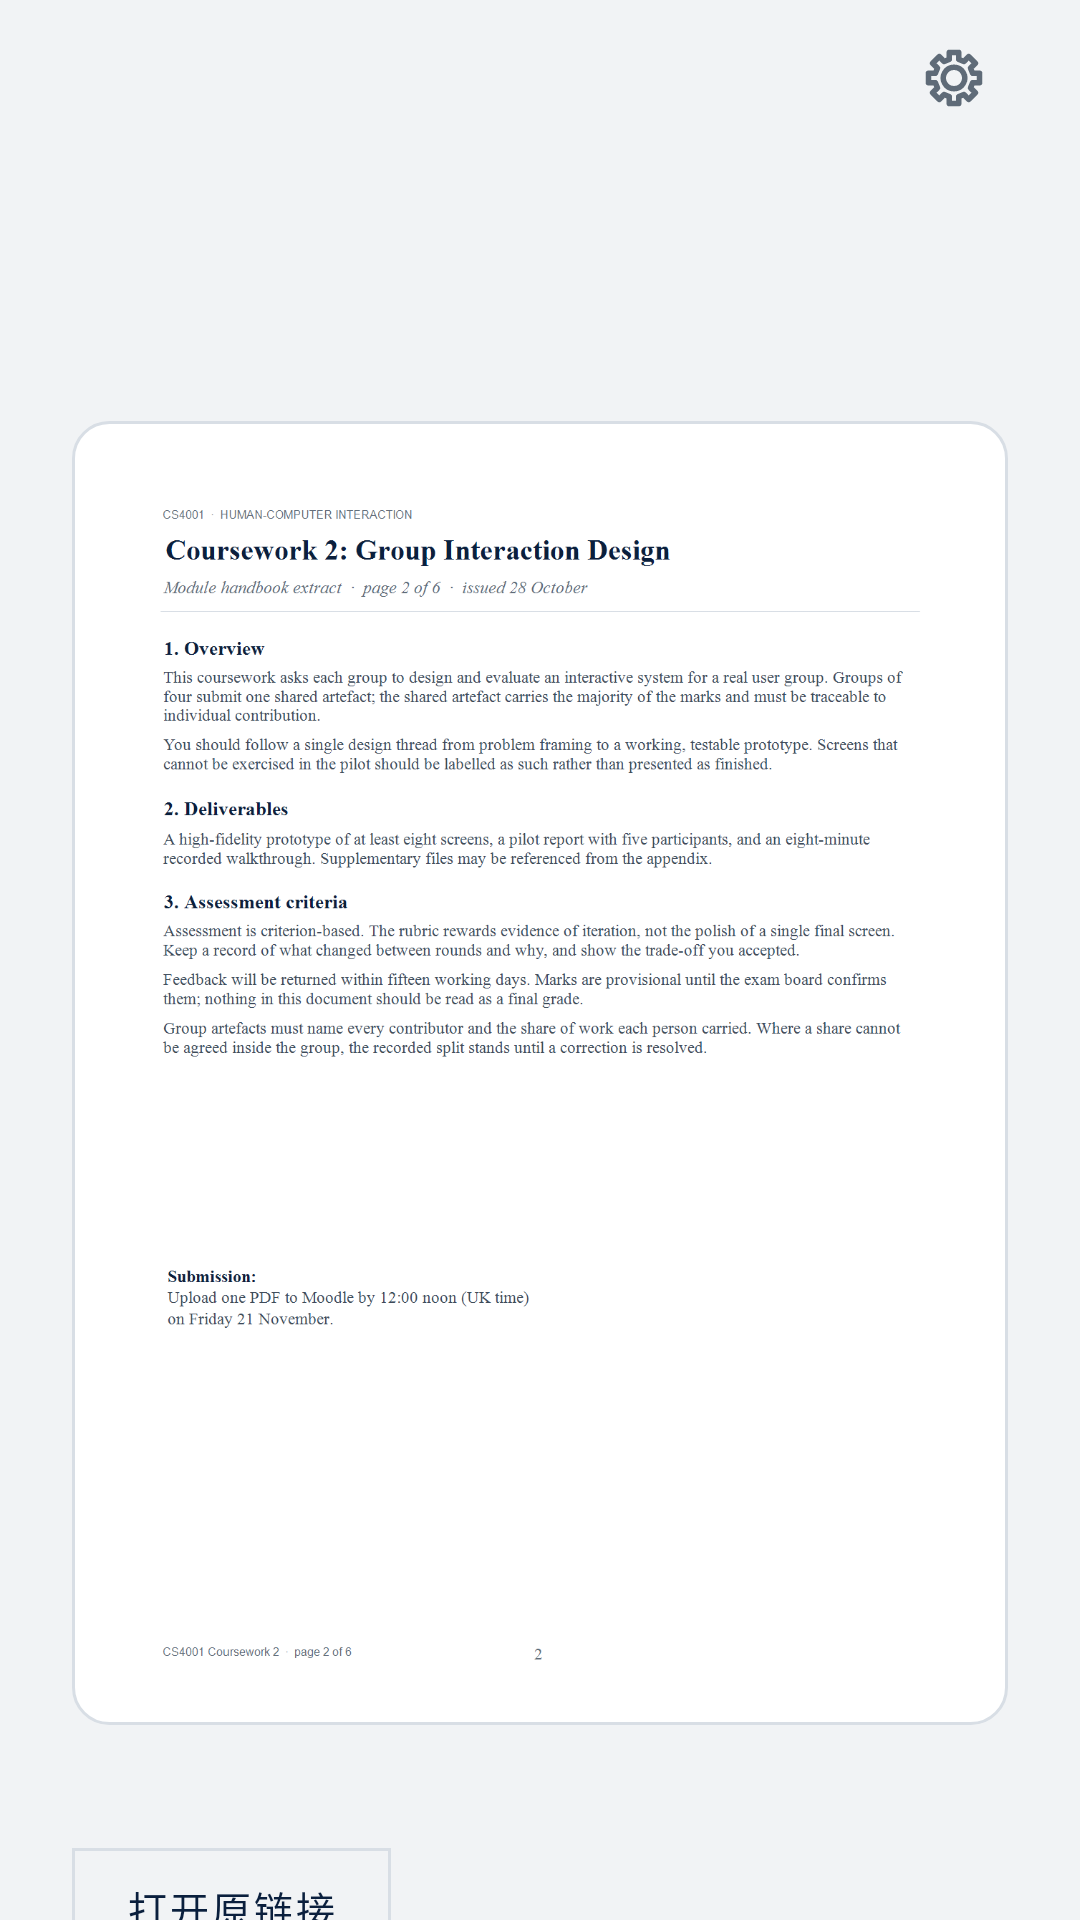

Named icons in this screenshot (1080 × 1920) and their centers, (x=x, y=y):
设置: (x=954, y=78)
